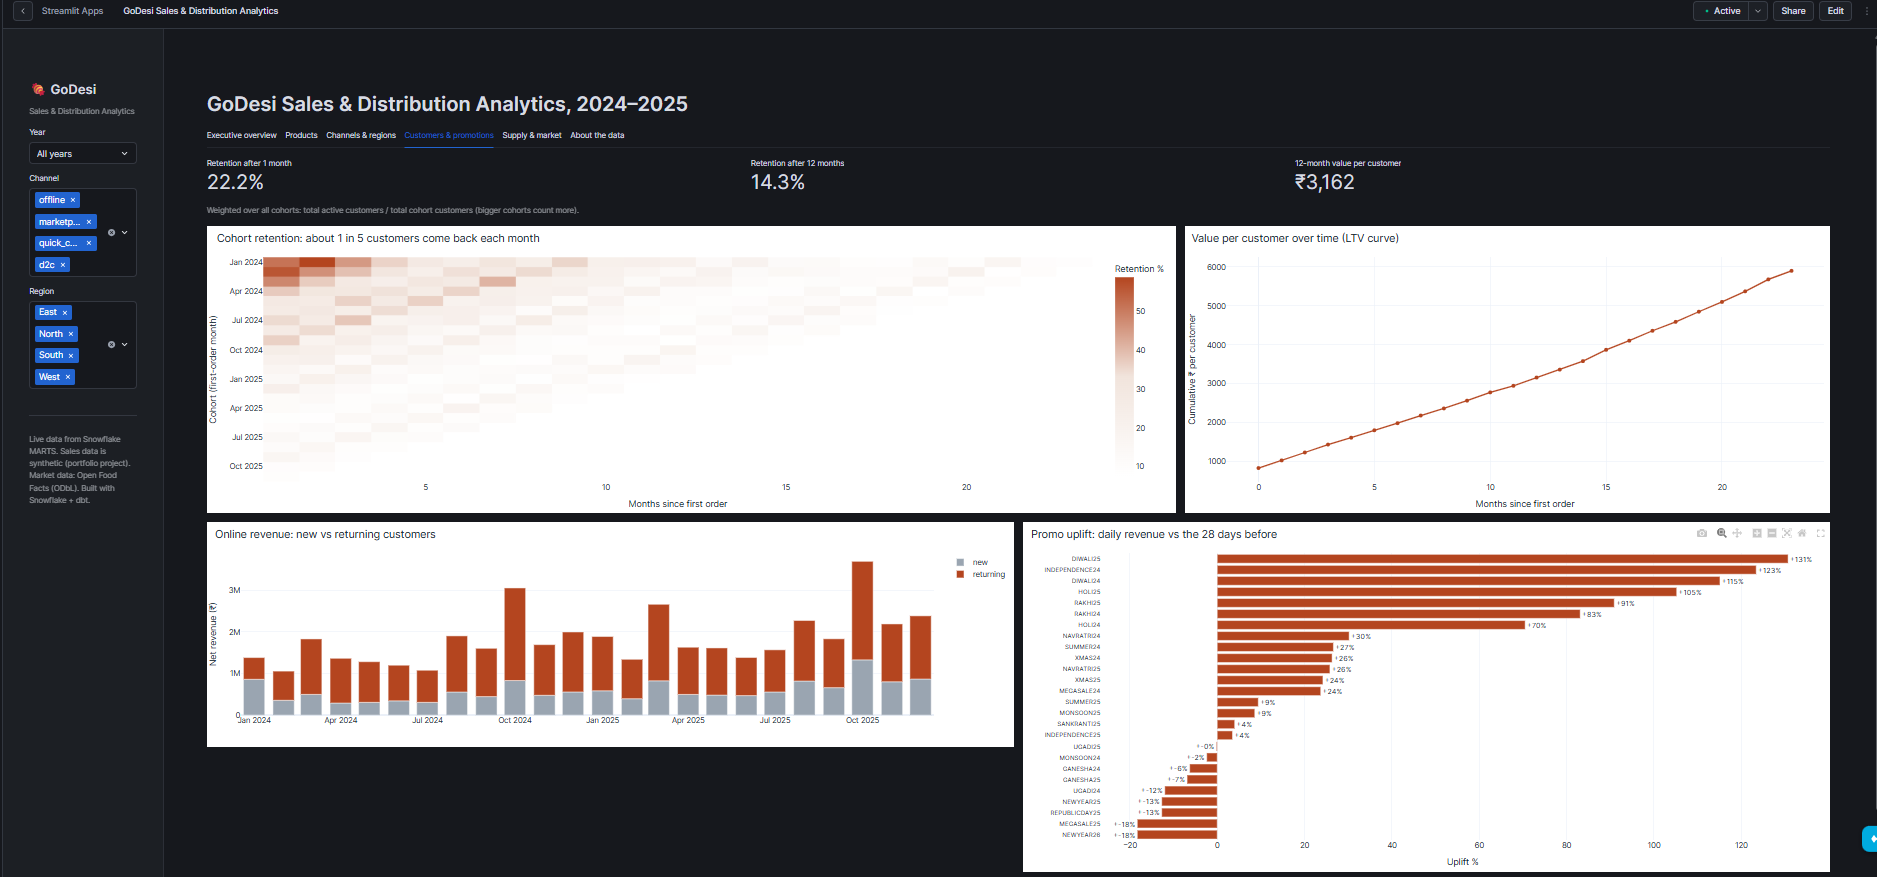

The dashboard page shown, as its layout file describes it:
{"tool":"powerbi","page":{"name":" Customers & promotions","canvas":[1280,720],"ordinal":3},"visuals":[{"type":"slicer","fields":{"Values":["DIM_DATE.YEAR"]},"box":[699.8,9.6,190.7,70],"z":0},{"type":"slicer","fields":{"Values":["DIM_CHANNEL.CHANNEL"]},"box":[890.6,9.6,189.4,70],"z":1000},{"type":"slicer","fields":{"Values":["DIM_GEOGRAPHY.REGION"]},"box":[1079.9,9.6,182.5,70],"z":2000},{"type":"cardVisual","fields":{"Data":["MART_CUSTOMER_COHORTS.Retention Month 1"]},"box":[20.6,79.6,314.2,109.8],"z":3000},{"type":"cardVisual","fields":{"Data":["MART_CUSTOMER_COHORTS.Revenue per Customer 12M"]},"box":[660,80,304.3,110],"z":4000},{"type":"cardVisual","title":" Returning customers'' share (online)","fields":{"Data":["FCT_ORDERS.Returning Share %"]},"box":[964.7,79.6,315.6,109.8],"z":5000},{"type":"cardVisual","fields":{"Data":["MART_CUSTOMER_COHORTS.Retention Month 12"]},"box":[334.8,79.6,325.2,109.8],"z":6000},{"type":"textbox","box":[20,10,600,50],"z":7000},{"type":"clusteredBarChart","title":" Promo uplift: daily revenue vs the 28 days before","fields":{"Category":["MART_PROMO_IMPACT.PROMO_CODE"],"Y":["MART_PROMO_IMPACT.Promo Uplift %"]},"box":[20,190,574.3,530],"z":7001},{"type":"pivotTable","title":"Cohort retention: share of new customers who come back (months 1-12)","fields":{"Columns":["MART_CUSTOMER_COHORTS.MONTHS_SINCE_FIRST_ORDER"],"Values":["MART_CUSTOMER_COHORTS.Retention %"],"Rows":["MART_CUSTOMER_COHORTS.COHORT_MONTH"]},"box":[594.3,180,685.7,540],"z":7002}]}

Visuals, with their boxes on the page's 1280x720 design canvas (x1, y1, x2, y2). These are canvas units, not pixel positions in the 1877x877 screenshot, which may show the page scaled, cropped or inside an application window:
slicer - DIM_DATE.YEAR: <box>700,10,890,80</box>
slicer - DIM_CHANNEL.CHANNEL: <box>891,10,1080,80</box>
slicer - DIM_GEOGRAPHY.REGION: <box>1080,10,1262,80</box>
cardVisual - MART_CUSTOMER_COHORTS.Retention Month 1: <box>21,80,335,189</box>
cardVisual - MART_CUSTOMER_COHORTS.Revenue per Customer 12M: <box>660,80,964,190</box>
" Returning customers'' share (online)" cardVisual: <box>965,80,1280,189</box>
cardVisual - MART_CUSTOMER_COHORTS.Retention Month 12: <box>335,80,660,189</box>
textbox: <box>20,10,620,60</box>
" Promo uplift: daily revenue vs the 28 days before" clusteredBarChart: <box>20,190,594,720</box>
"Cohort retention: share of new customers who come back (months 1-12)" pivotTable: <box>594,180,1280,720</box>
